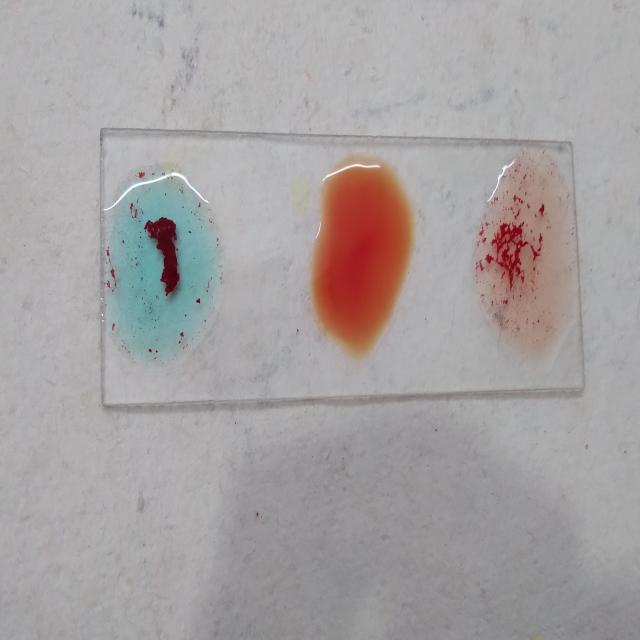A: (107, 162, 220, 364)
D: (478, 165, 577, 351)
